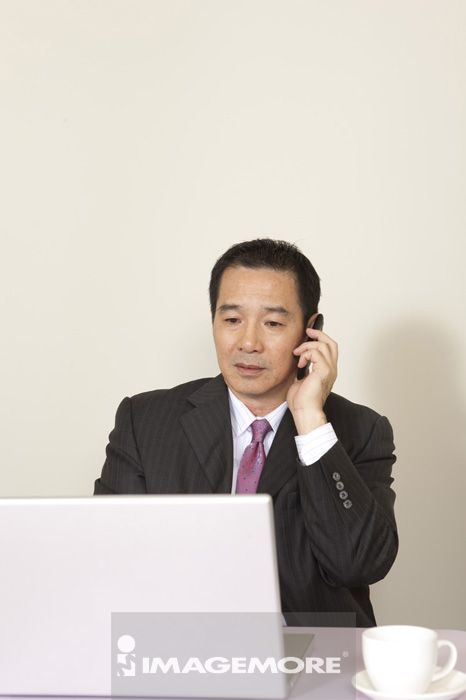phone: (297, 314, 324, 382)
talk: (213, 298, 340, 415)
